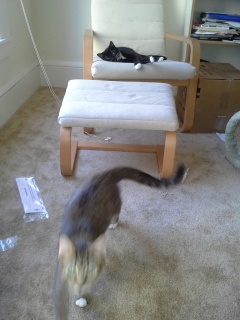Cat: (55, 161, 185, 319), (95, 40, 166, 70)
